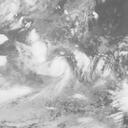cyclone: (24, 37, 79, 89)
